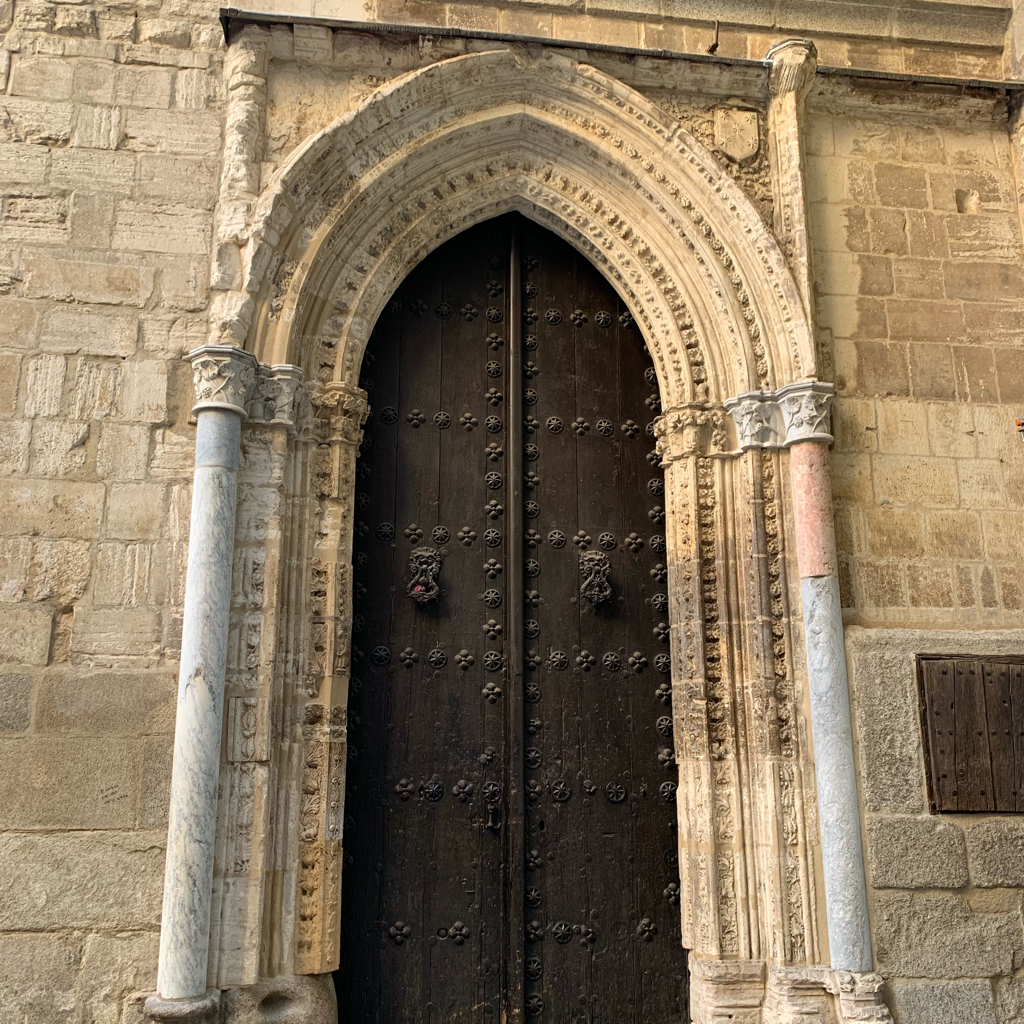arco-apuntado: (336, 158, 686, 415)
